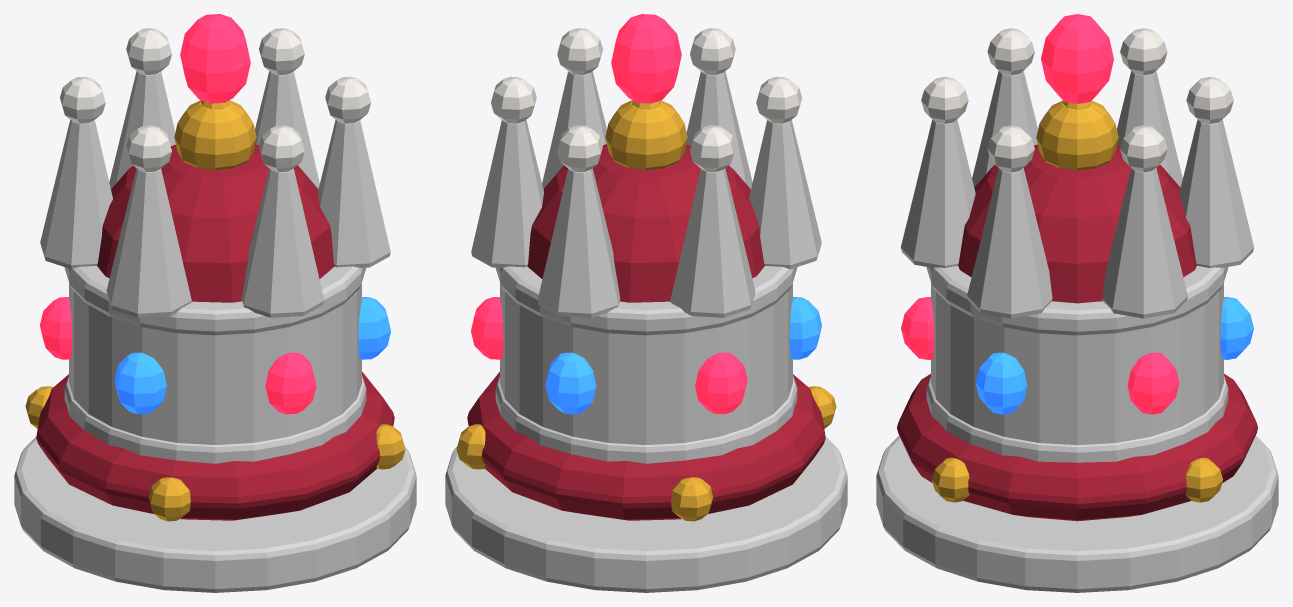
Rendered from crown.glb.
3 renders of one model, left to right at view 1: azimuth 30°, elevation 25°; view 2: azimuth 150°, elevation 25°; view 3: azimuth 270°, elevation 25°, orthographic.
Visible parts, largest first — view 1: PawnCrown; view 2: PawnCrown; view 3: PawnCrown.
Boxes of the visible parts, bbox=[...] form: PawnCrown: bbox=[14, 14, 416, 592]; PawnCrown: bbox=[445, 14, 847, 592]; PawnCrown: bbox=[876, 14, 1278, 592].
Size of the model in its own units: 0.44 by 0.597 by 0.44.
